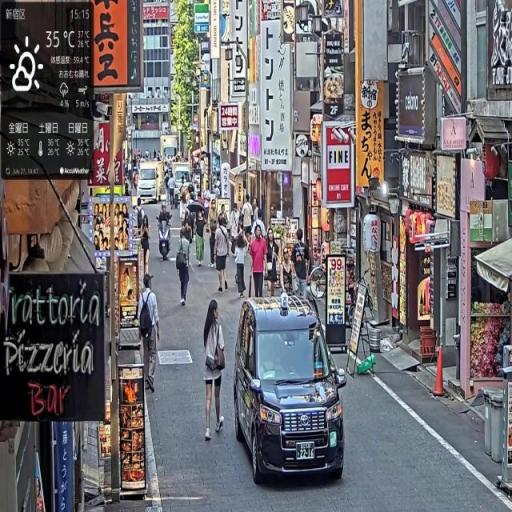person: (203, 300, 229, 448), (137, 274, 162, 396), (251, 224, 268, 301), (215, 218, 232, 295), (176, 228, 192, 308), (265, 228, 280, 301), (235, 227, 249, 299), (157, 201, 172, 263), (195, 211, 207, 269)
